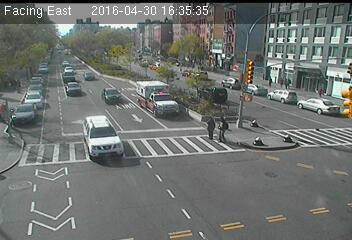neg: (92, 10, 107, 30), (37, 171, 52, 190), (180, 189, 194, 208), (186, 51, 199, 69), (277, 161, 290, 179), (140, 83, 153, 100), (22, 44, 35, 61), (278, 124, 290, 142), (3, 127, 15, 144), (84, 78, 96, 94), (238, 82, 250, 98), (89, 118, 100, 133), (32, 85, 41, 98), (56, 49, 65, 61)
pos: (210, 115, 230, 142), (200, 113, 219, 138), (281, 76, 293, 92), (315, 86, 327, 101), (266, 76, 275, 88), (277, 76, 285, 86)
